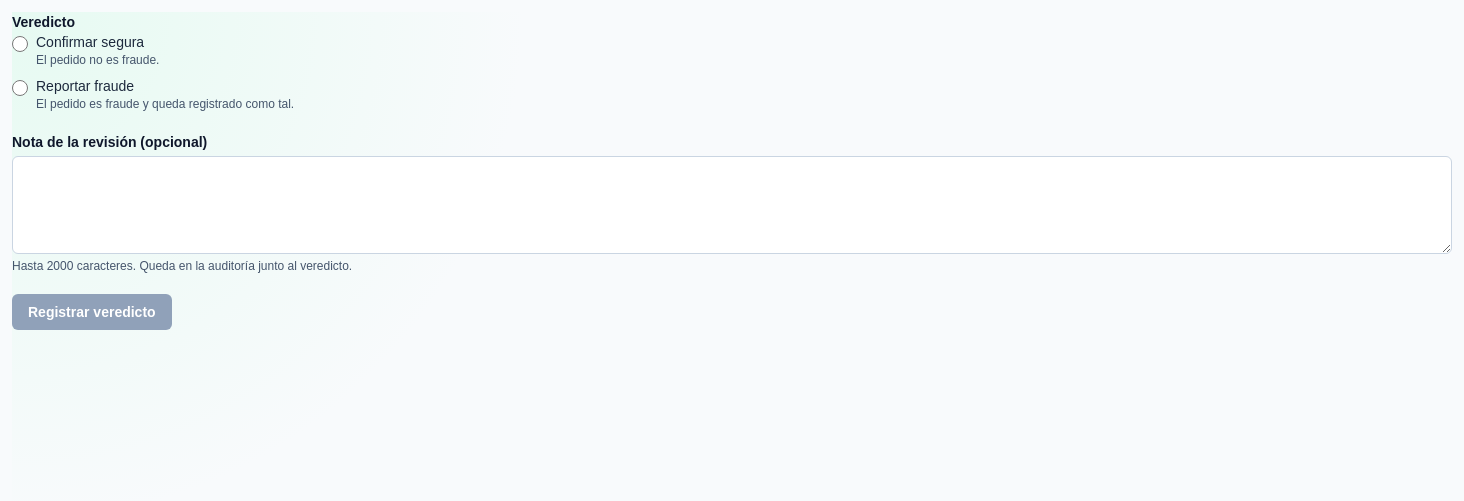
Test: formulario de revisión › la nota sobrevive a un 409
Click the radio button labelled "Confirmar segura El pedido no es fraude." at (20, 44), box [12,36,28,52]
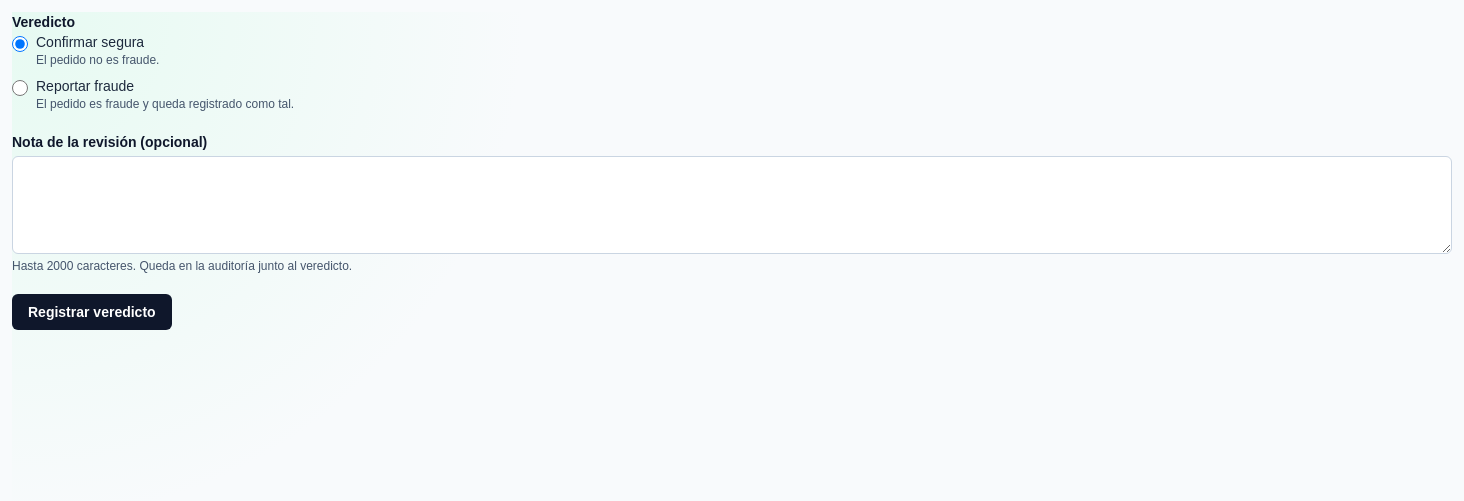
Type "El comprador tiene tres pedidos previos entregados sin contracargo." into the text box at (732, 205), box [12,156,1452,254]
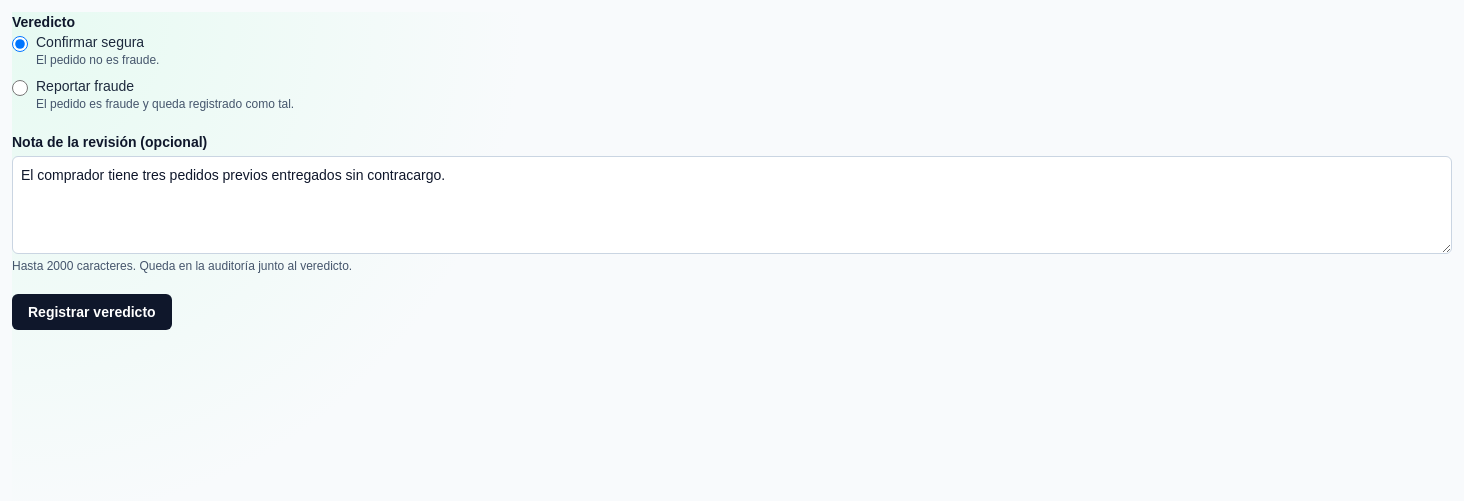
Submit the form named "Registrar veredicto"
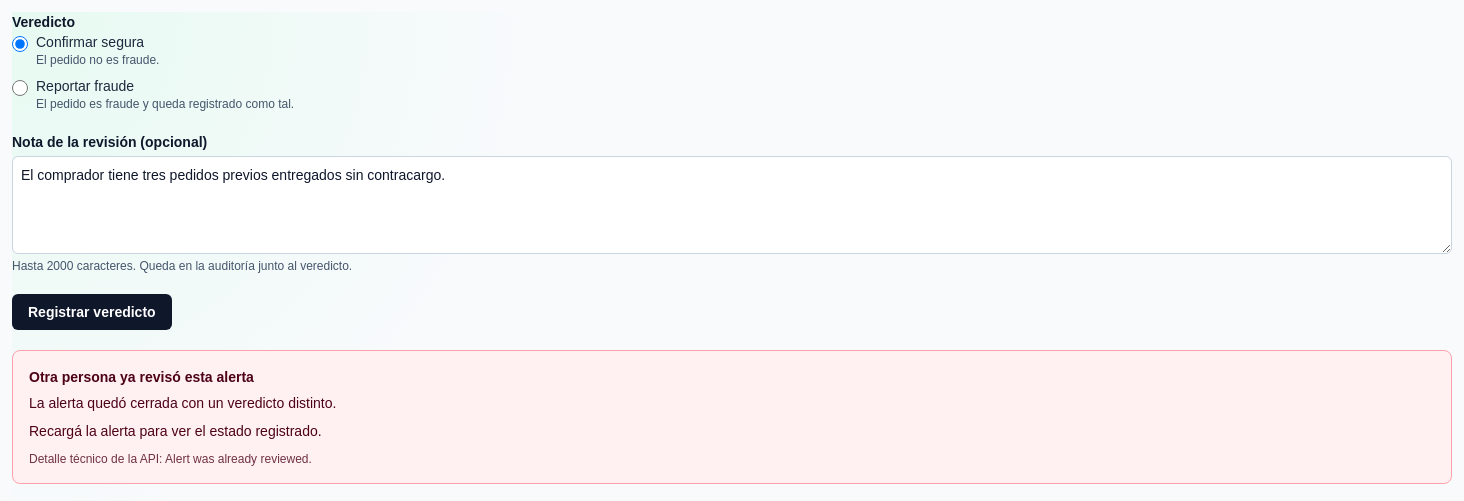
Result: the radio button labelled "Confirmar segura El pedido no es fraude." is checked at [12,36,28,52]
Result: the text box holds "El comprador tiene tres pedidos previos entregados sin contracargo." at [12,156,1452,254]
Result: the heading "Otra persona ya revisó esta alerta" is shown at [29,369,254,385]
